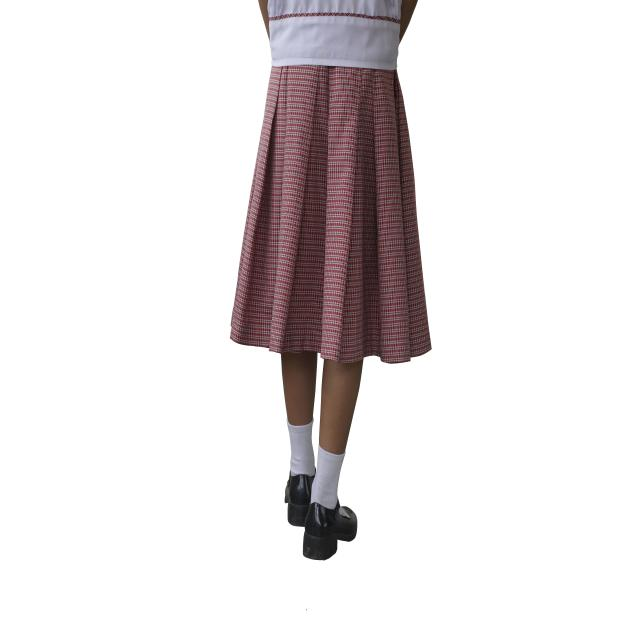shoes: (285, 474, 357, 560)
skirt: (230, 66, 431, 363)
